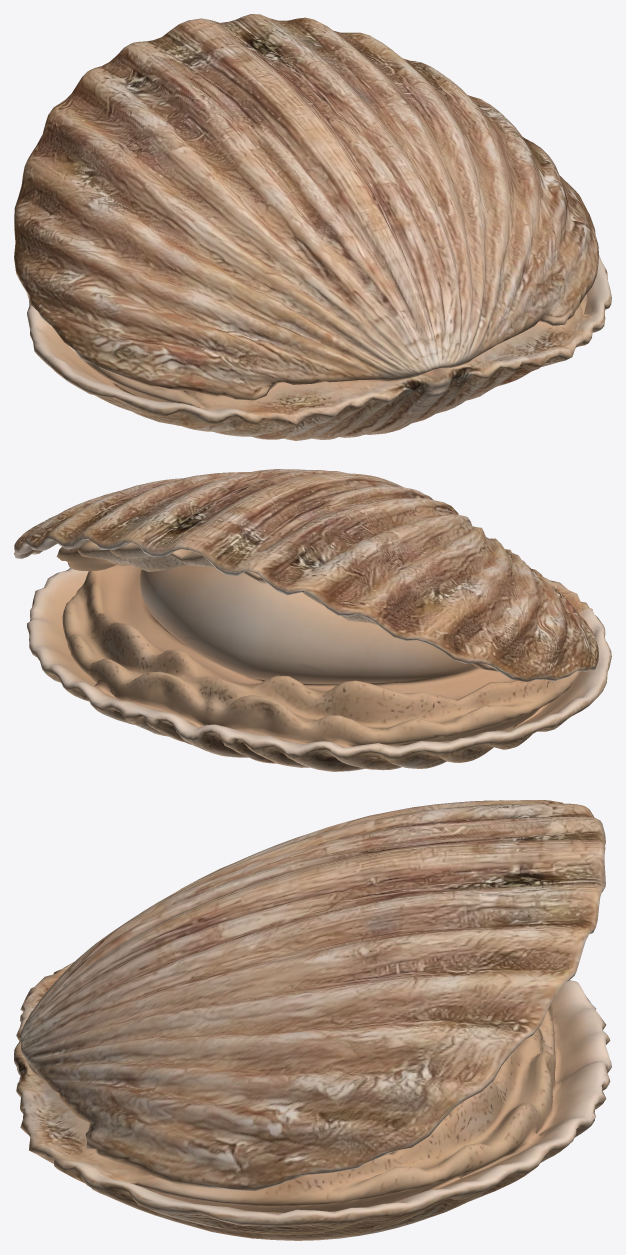
Rendered from scallop.glb.
3 views of the same model, one above another, from view 1: azimuth 30°, elevation 25°; view 2: azimuth 150°, elevation 25°; view 3: azimuth 270°, elevation 25° (orthographic). The views are drawn at different scales.
Parts seen in each view (by area): view 1: model; view 2: model; view 3: model.
Part boxes in pixels (<box>): model: <box>14,14,611,440</box>; model: <box>14,469,611,771</box>; model: <box>14,800,611,1240</box>.
Size of the model in its own units: 1.88 by 0.9936 by 1.57.
1 material, 1 textured.
